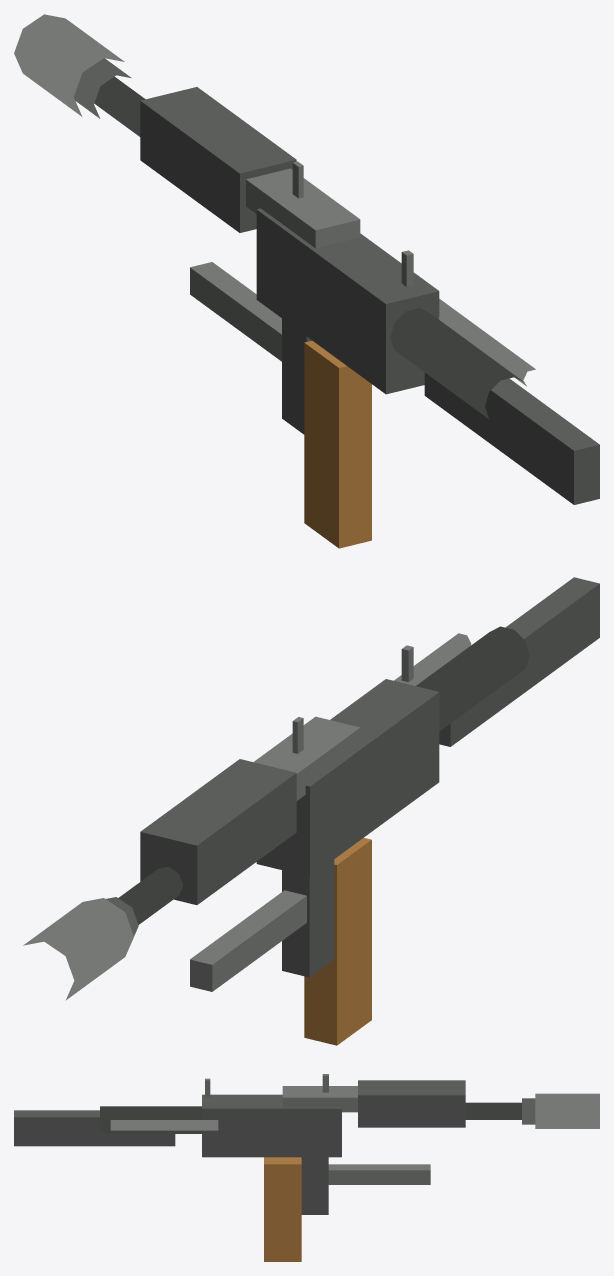
File: w_aks74u.glb
3 renders of one model, top to bottom at view 1: azimuth 30°, elevation 25°; view 2: azimuth 150°, elevation 25°; view 3: azimuth 270°, elevation 25°, orthographic. The views are drawn at different scales.
Visible parts, largest first — view 1: body; view 2: body; view 3: body.
Part boxes in pixels (x1,y1,x2,y2): body: (14,14,599,548); body: (23,577,599,1045); body: (14,1074,599,1261).
Size of the model in its own units: 0.085 by 0.375 by 1.09.
